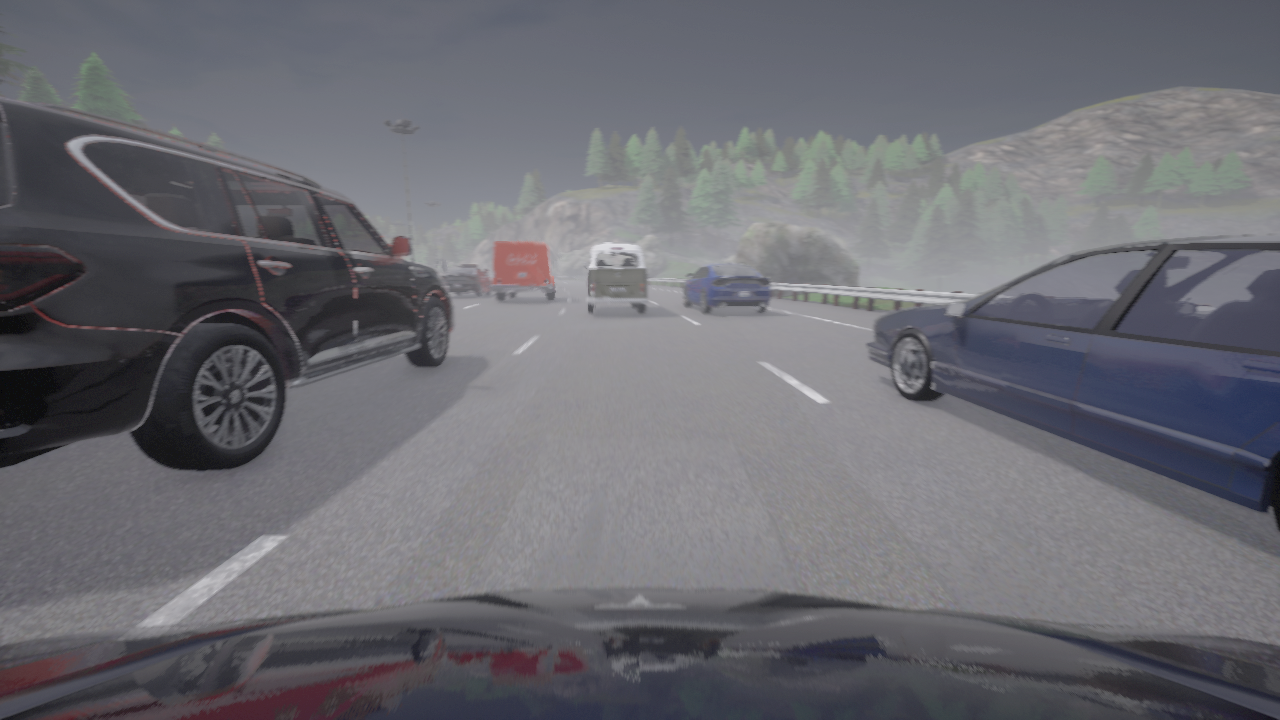cyclist: (0, 588, 1279, 719), (864, 234, 1279, 534), (583, 243, 647, 314), (683, 262, 770, 313), (492, 242, 556, 301), (440, 265, 490, 296)
